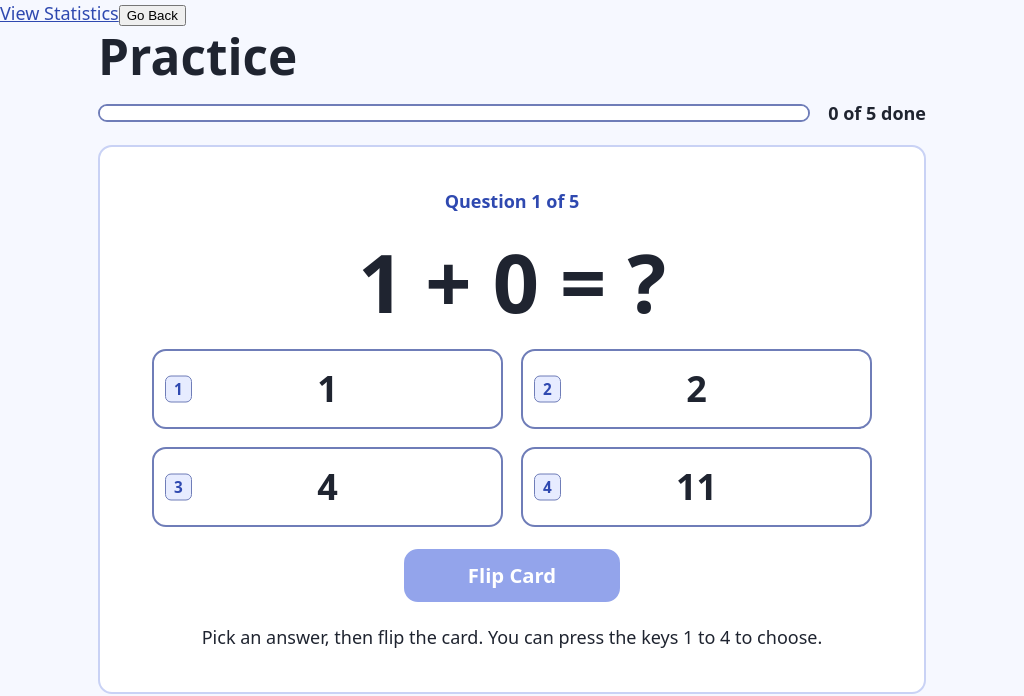
leaving a session in progress › asks first when a link would take the student away
Step 1. Click the button "1 1" → (328, 389), box 152,349 -> 503,429
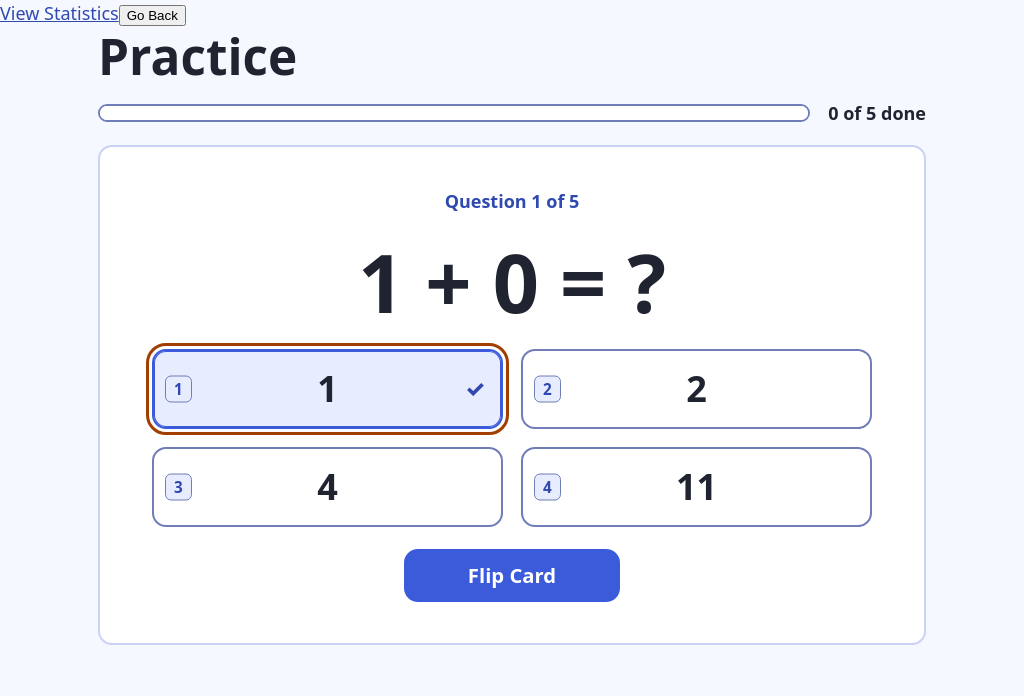
Step 2. Click the button "Flip Card" → (512, 576), box 404,549 -> 620,602
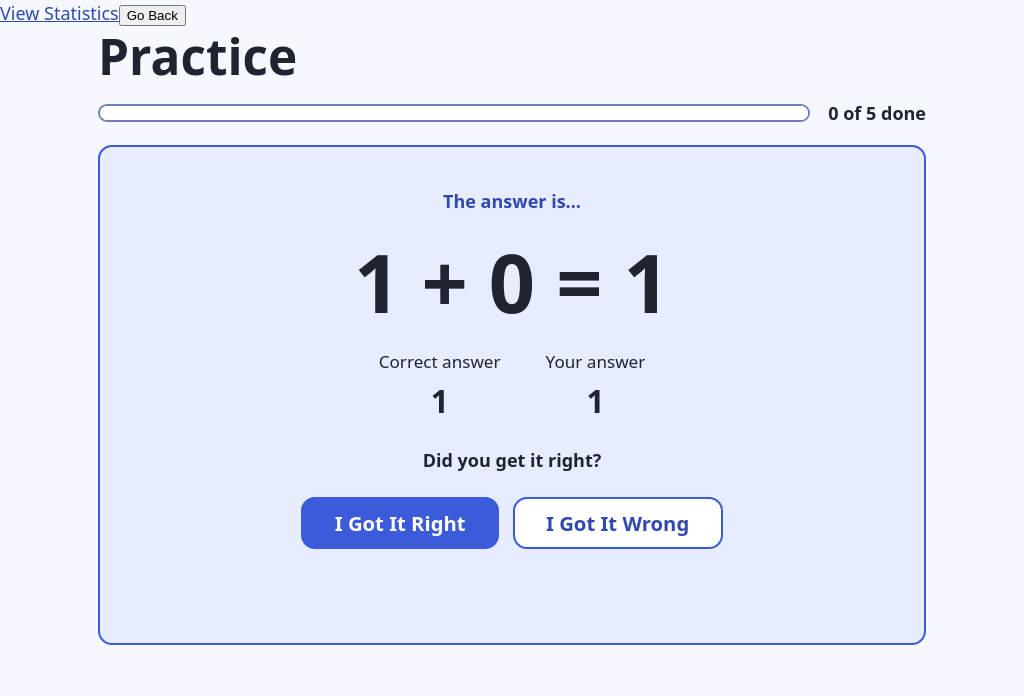
Step 3. Click the button "I Got It Right" → (400, 523), box 301,496 -> 499,549
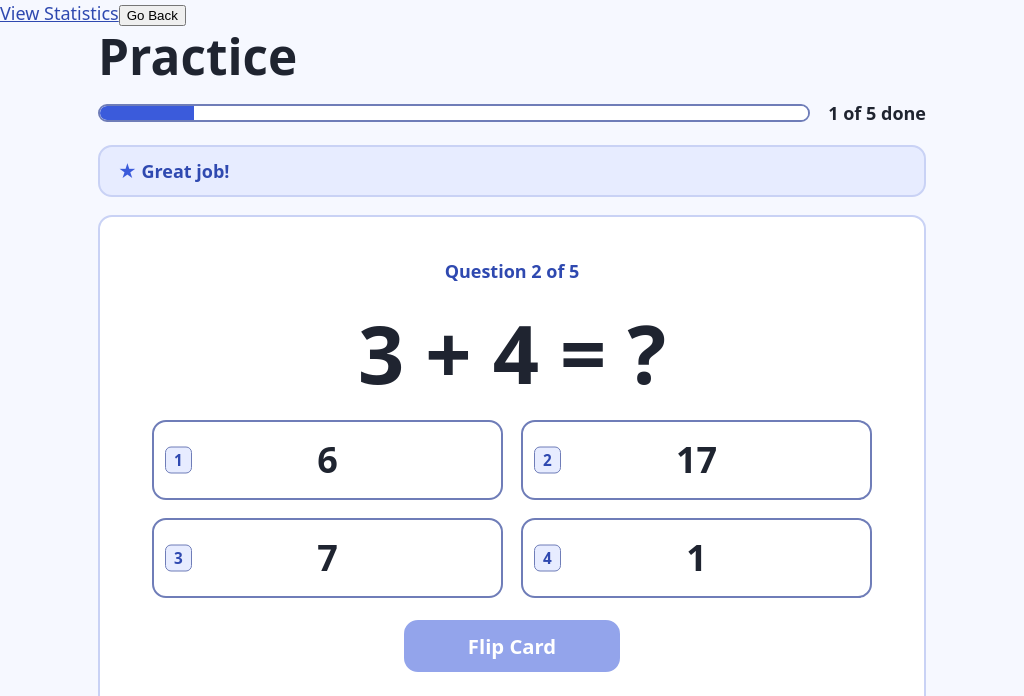
Step 4. Click the link "View Statistics" → (59, 13), box 0,1 -> 119,25
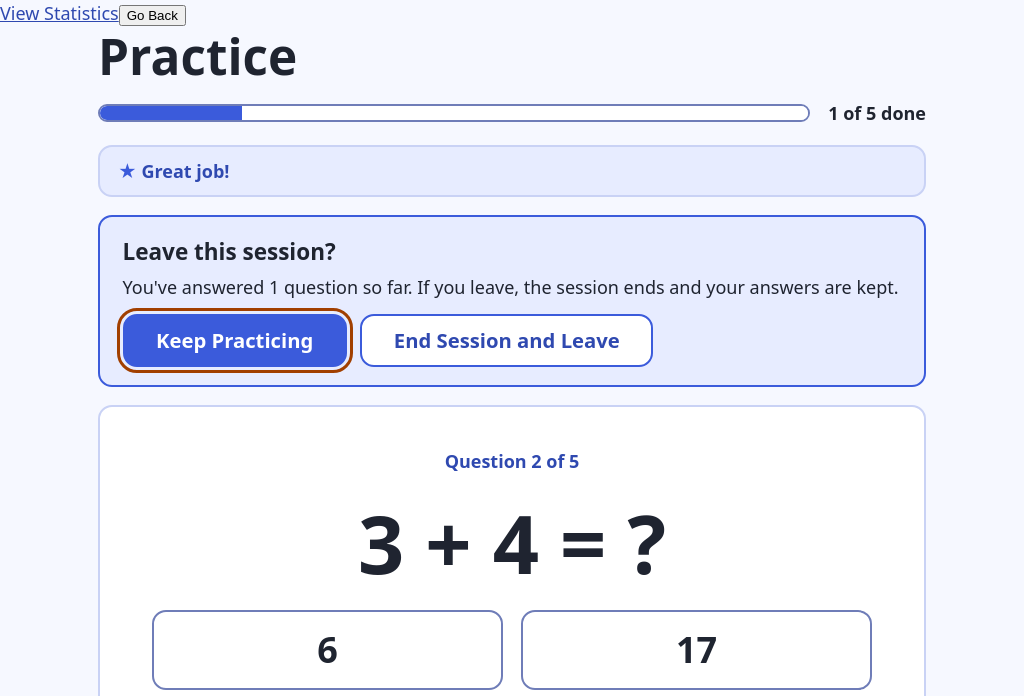
Now the dialog is shown, box 98,216 -> 926,387
Now the heading "Leave this session?" is shown, box 122,236 -> 336,268
